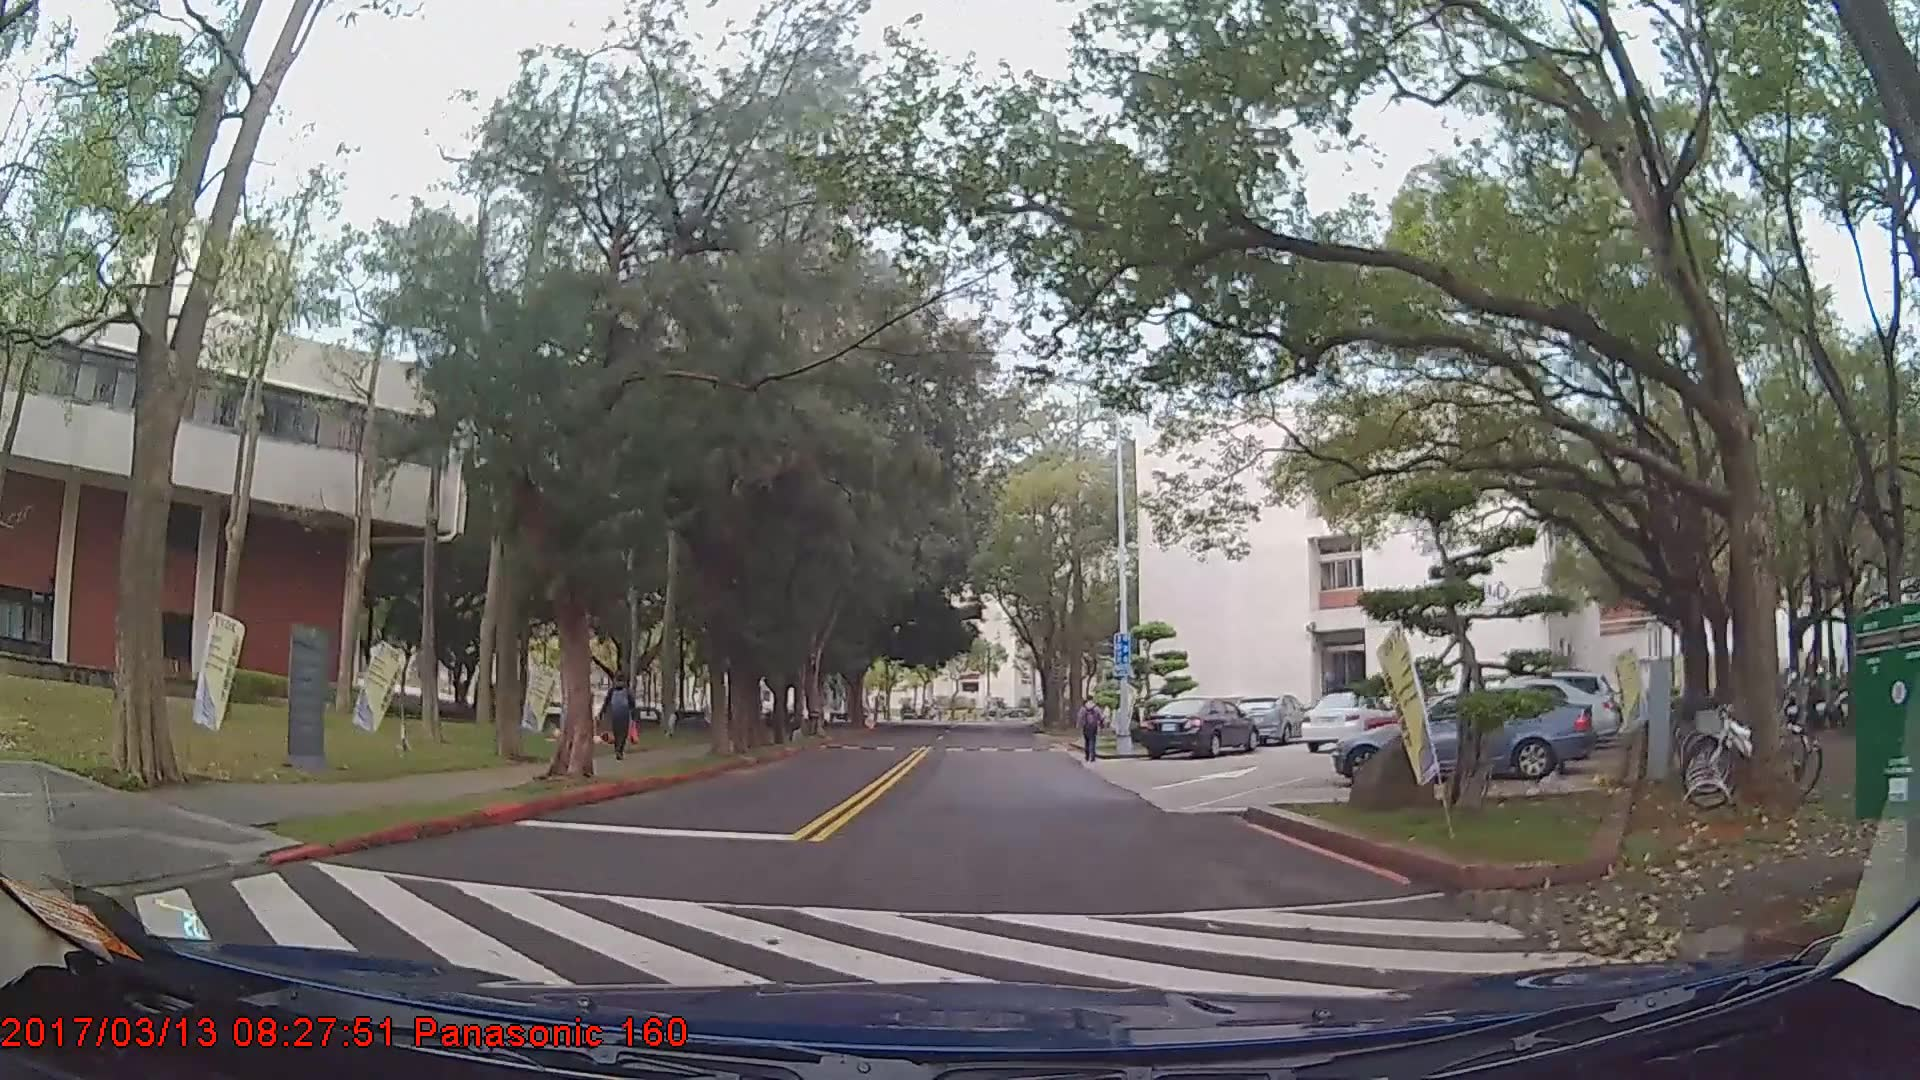pedestrian: (602, 672, 638, 762), (1077, 694, 1106, 764)
vehicle: (1332, 686, 1593, 789), (1137, 693, 1261, 757), (1303, 688, 1392, 751), (1234, 695, 1316, 746)
